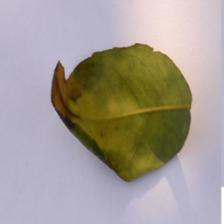black spot: (15, 36, 110, 141)
